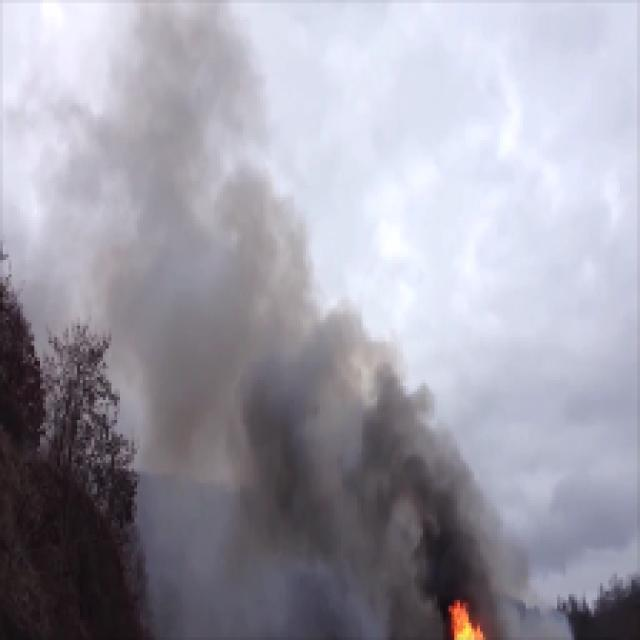Fire: (448, 601, 490, 640)
Smoke: (276, 426, 474, 564), (130, 254, 293, 378)
